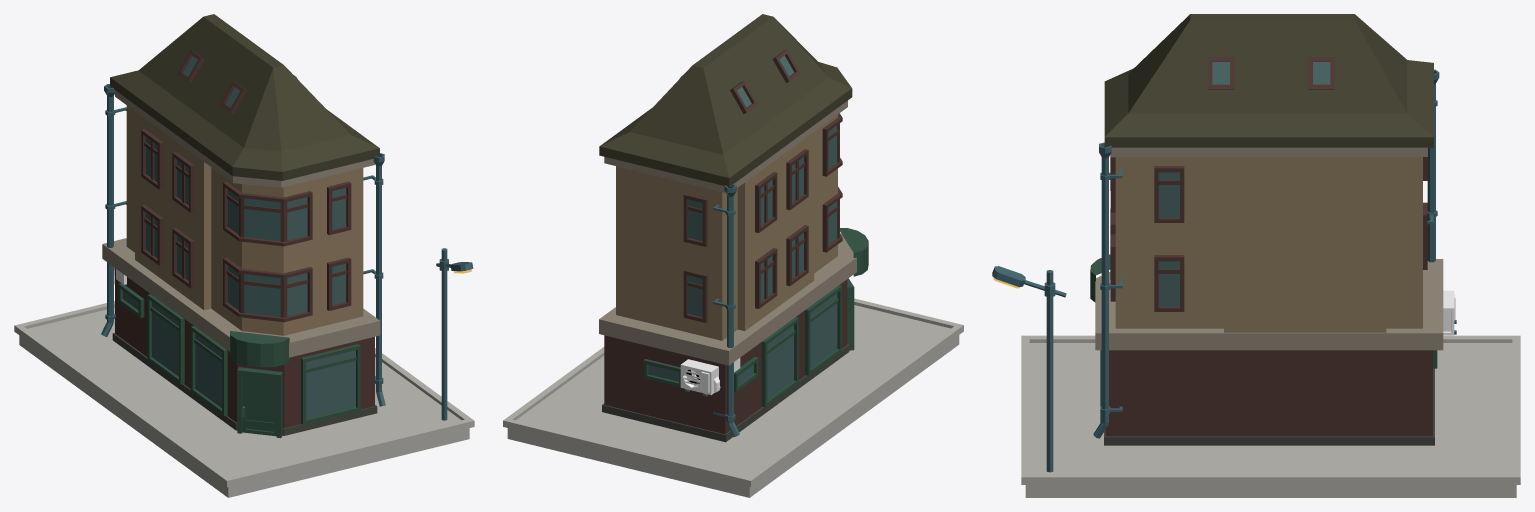
File: office.glb
The picture shows the model from 3 angles, left to right: view 1: azimuth 30°, elevation 25°; view 2: azimuth 150°, elevation 25°; view 3: azimuth 270°, elevation 25°; orthographic projection. The views are drawn at different scales.
Visible parts, largest first — view 1: Box15868, window_115, Cylinder1713; view 2: Box15868, window_115, Cylinder1713; view 3: Box15868, Cylinder1713, window_115.
Boxes of the visible parts, x1,y1,x2,y2 form: Box15868: [14, 14, 474, 497]; window_115: [123, 56, 355, 418]; Cylinder1713: [101, 84, 473, 420]; Box15868: [503, 14, 963, 497]; window_115: [648, 55, 837, 399]; Cylinder1713: [685, 183, 739, 436]; Box15868: [1021, 14, 1520, 497]; Cylinder1713: [992, 69, 1456, 472]; window_115: [1158, 61, 1330, 306].
Bounding box in the file's own units: 8.2 × 11.1 × 12.91.
Materials: 4 (4 with a texture image).
